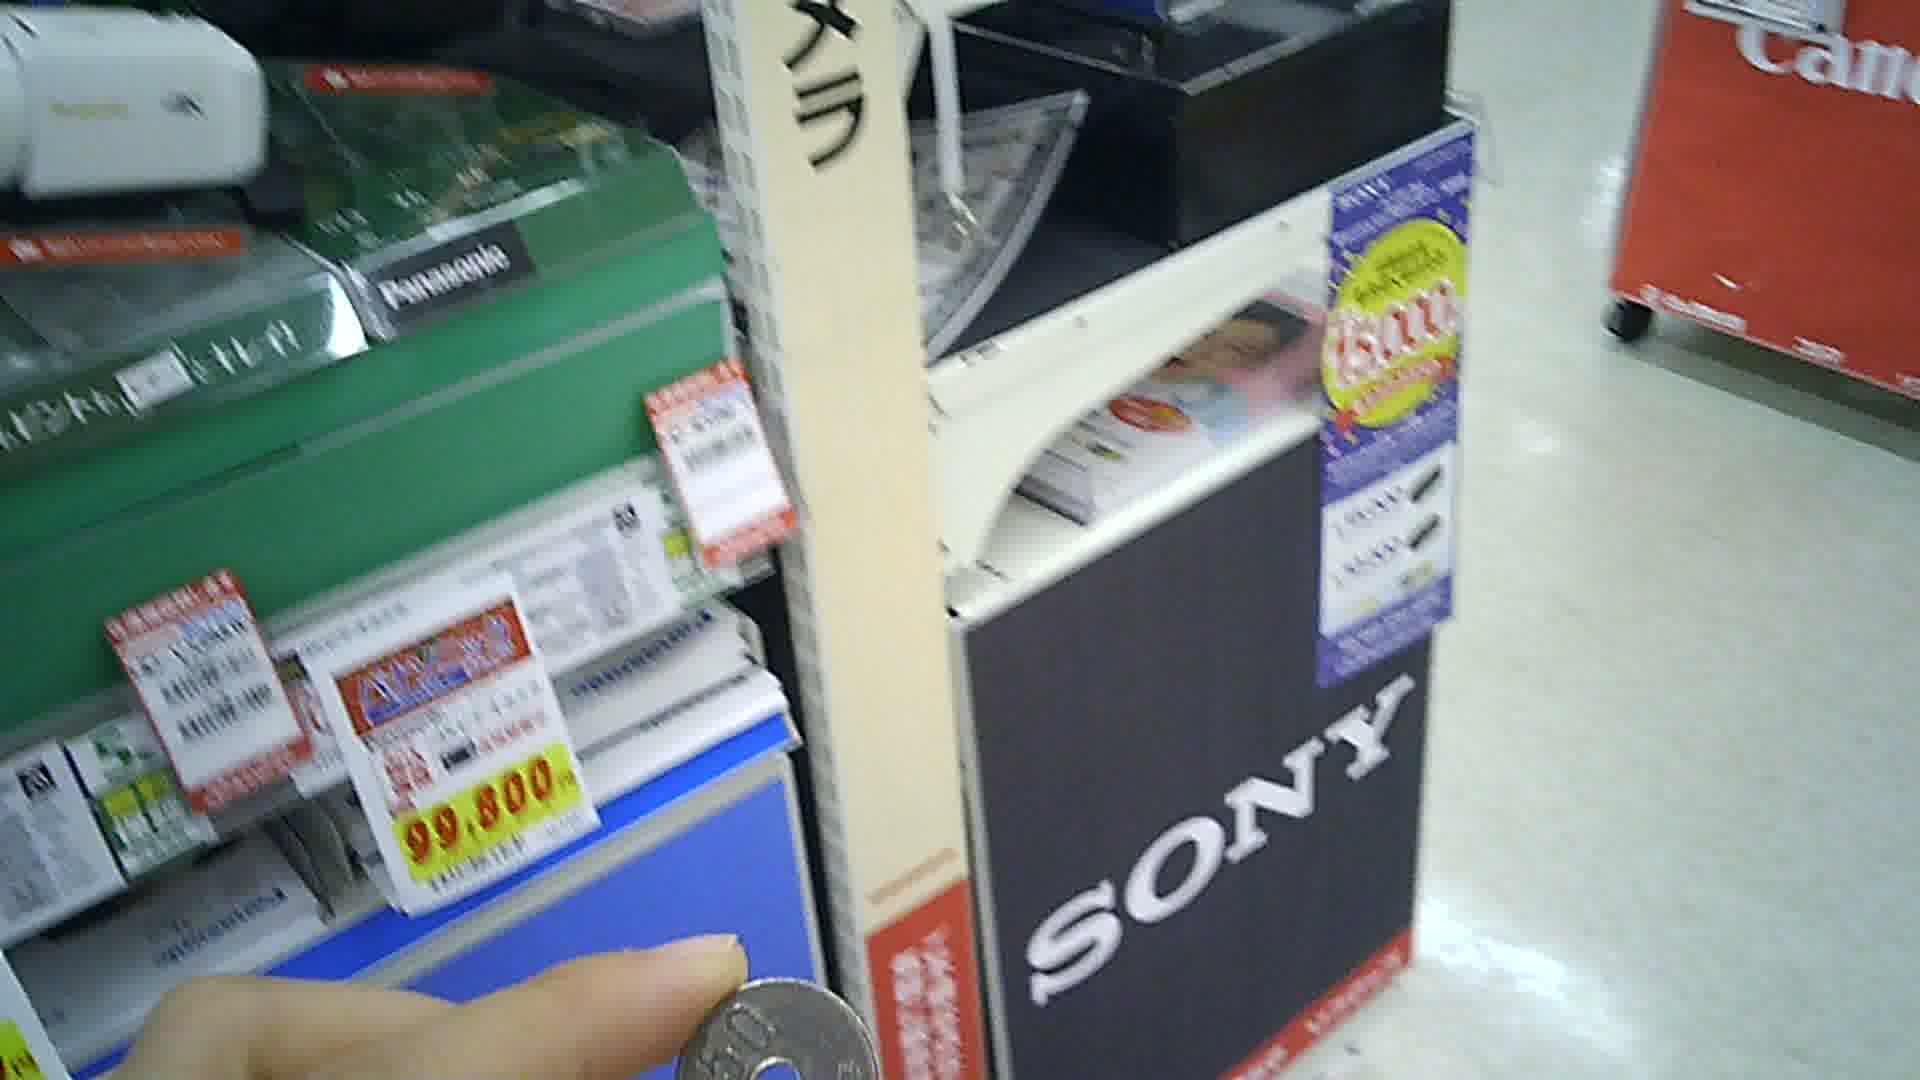50 Yen: (667, 975, 885, 1079)
